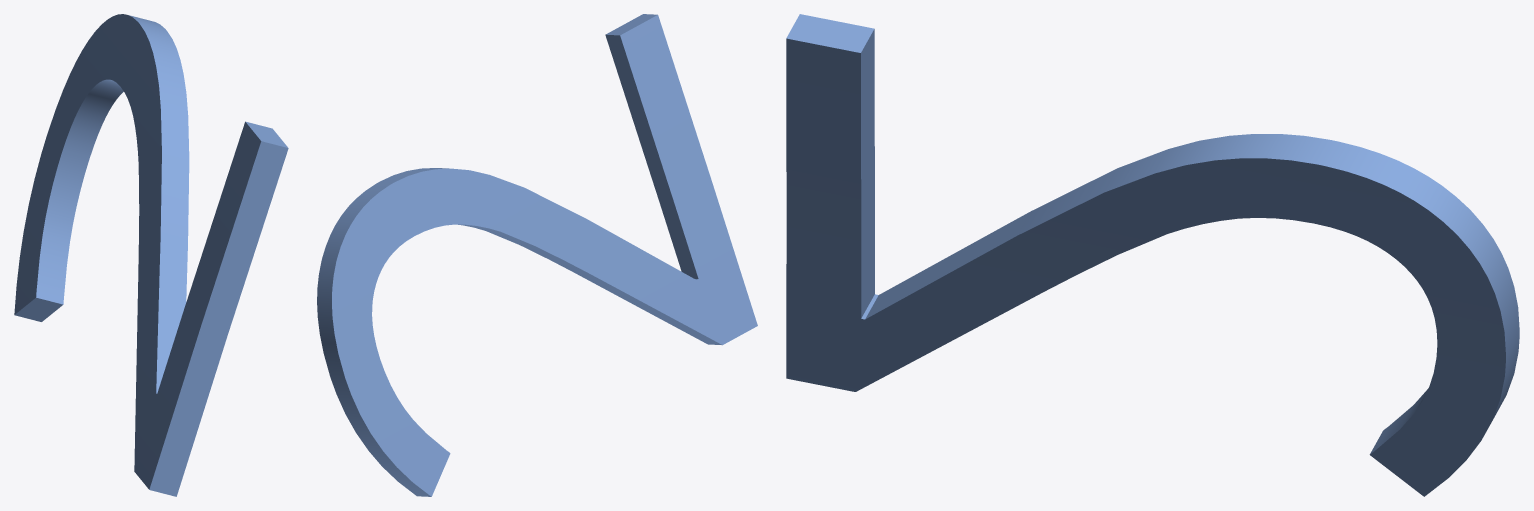
Rendered from New_Number_2.gltf.
3 views of the same model, side by side, from view 1: azimuth 30°, elevation 25°; view 2: azimuth 150°, elevation 25°; view 3: azimuth 270°, elevation 25° (orthographic). The views are drawn at different scales.
Visible parts, largest first — view 1: Part 632; view 2: Part 632; view 3: Part 632.
Part boxes in pixels (<box>): Part 632: <box>14,14,288,496</box>; Part 632: <box>317,14,757,496</box>; Part 632: <box>786,14,1519,496</box>.
Size of the model in its own units: 0.00235 by 0.00355 by 0.00505.
